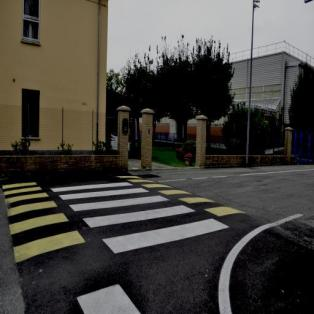Paso de Cebra: (82, 201, 230, 256)
